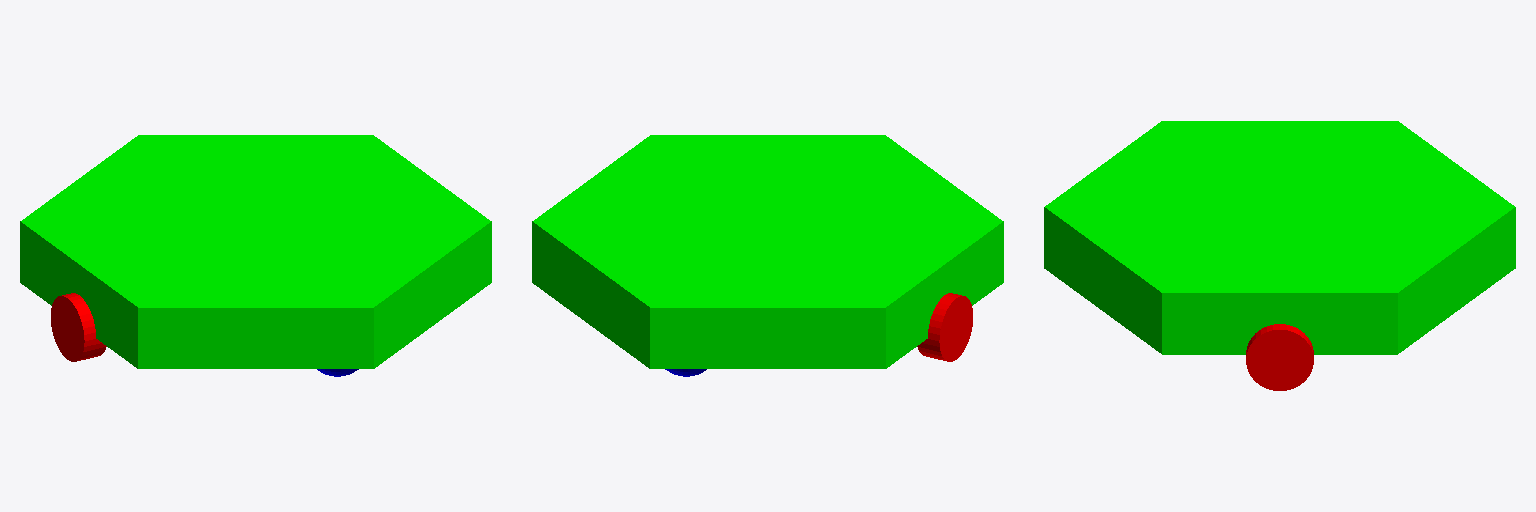
URDF robot description (hexa_robot):
<?xml version="1.0" encoding="utf-8"?>
<!-- =================================================================================== -->
<!-- |    This document was autogenerated by xacro from hexa_robot.xacro               | -->
<!-- |    EDITING THIS FILE BY HAND IS NOT RECOMMENDED                                 | -->
<!-- =================================================================================== -->
<robot name="hexa_robot">
  <link name="base_link"/>
  <joint name="body_joint" type="fixed">
    <parent link="base_link"/>
    <child link="body_link"/>
    <origin rpy="0 0 0" xyz="0.0 0.0 0.0225"/>
  </joint>
  <link name="body_link">
    <visual name="hexa">
      <geometry>
        <mesh filename="package://urdf_test/urdf/hexagon_blendered.stl"/>
      </geometry>
      <material name="green">
        <color rgba="0.0 1.0 0.0 2.0"/>
      </material>
    </visual>
  </link>
  <joint name="left_wheel_joint" type="continuous">
    <origin rpy="-1.57079632679 0 -1.57079632679" xyz="0.15 0 0"/>
    <parent link="body_link"/>
    <child link="left_wheel_link"/>
    <axis xyz="0 0 1"/>
  </joint>
  <link name="left_wheel_link">
    <visual>
      <geometry>
        <cylinder length="0.020" radius="0.025"/>
      </geometry>
      <material name="red">
        <color rgba="1.0 0.0 0.0 2.0"/>
      </material>
    </visual>
  </link>
  <joint name="right_wheel_joint" type="continuous">
    <origin rpy="-1.57079632679 0 -1.57079632679" xyz="-0.15 0 0"/>
    <parent link="body_link"/>
    <child link="right_wheel_link"/>
    <axis xyz="0 0 1"/>
  </joint>
  <link name="right_wheel_link">
    <visual>
      <geometry>
        <cylinder length="0.020" radius="0.025"/>
      </geometry>
      <material name="red">
        <color rgba="1.0 0.0 0.0 2.0"/>
      </material>
    </visual>
  </link>
  <joint name="front_ball_joint" type="fixed">
    <origin rpy="0 0 0" xyz="0 0.120 0"/>
    <parent link="body_link"/>
    <child link="front_ball_link"/>
  </joint>
  <link name="front_ball_link">
    <visual>
      <geometry>
        <sphere radius="0.025"/>
      </geometry>
      <material name="blue">
        <color rgba="0.0 0.0 1.0 2.0"/>
      </material>
    </visual>
  </link>
  <joint name="back_ball_joint" type="fixed">
    <origin rpy="0 0 0" xyz="0 -0.120 0"/>
    <parent link="body_link"/>
    <child link="back_ball_link"/>
  </joint>
  <link name="back_ball_link">
    <visual>
      <geometry>
        <sphere radius="0.025"/>
      </geometry>
      <material name="blue">
        <color rgba="0.0 0.0 1.0 2.0"/>
      </material>
    </visual>
  </link>
</robot>

--- Render facts (derived) ---
3 views of the same robot in one strip: view 1: azimuth 30°, elevation 25°; view 2: azimuth 150°, elevation 25°; view 3: azimuth 270°, elevation 25° (orthographic).
Model hexa_robot with 6 links and 5 joints (2 continuous, 3 fixed), rooted at base_link, posed every joint at zero.
Links seen in each view (by area): view 1: body_link, right_wheel_link; view 2: body_link, right_wheel_link; view 3: body_link, left_wheel_link.
Boxes of the visible links, bbox=[...] form: body_link: bbox=[20, 135, 491, 368]; right_wheel_link: bbox=[51, 293, 106, 361]; body_link: bbox=[532, 135, 1003, 368]; right_wheel_link: bbox=[917, 293, 972, 361]; body_link: bbox=[1044, 121, 1515, 354]; left_wheel_link: bbox=[1246, 324, 1313, 390].
Size in the robot's own frame: 0.32 by 0.3464 by 0.075 metres.
1 mesh visuals loaded from 1 distinct referenced files (1 binary STL).